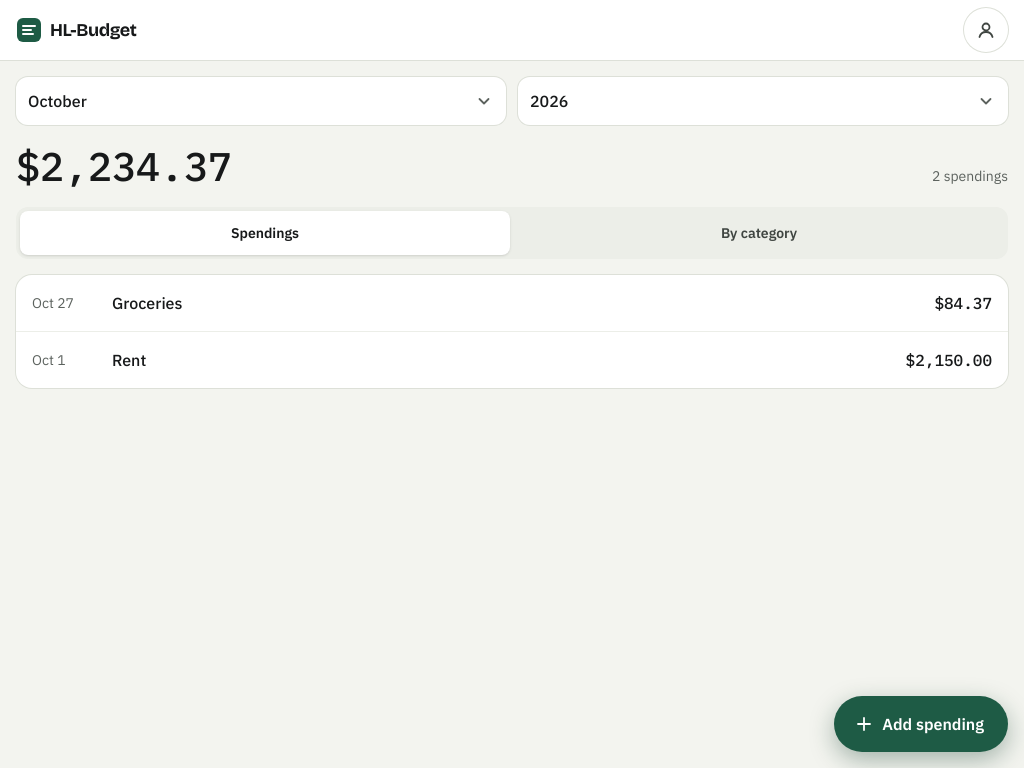
Test: PhoneApp › opens a spending prefilled, and deletes it through the sheet
The image size is (1024, 768).
Step 1. Click the button "Oct 27 Groceries $84.37" → (53, 303), box [16, 275, 1008, 331]
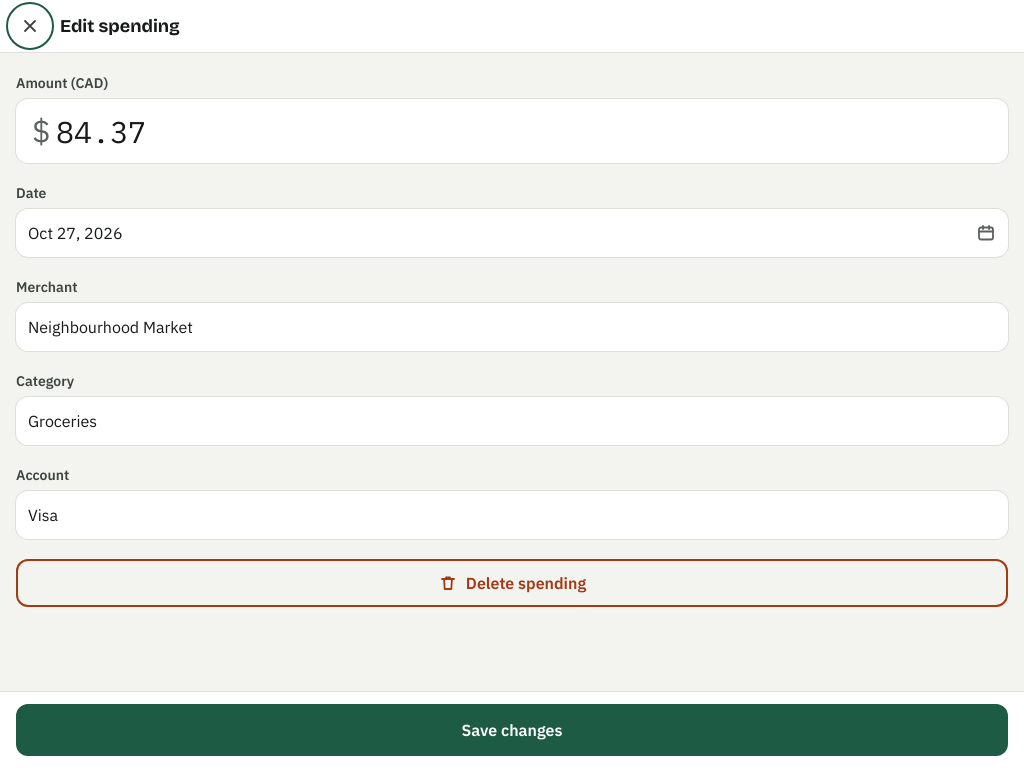
Now the field labelled "Amount (CAD)" holds "84.37", box [16, 99, 1008, 163]
Now the dropdown labelled "Merchant" holds "Neighbourhood Market", box [16, 303, 1008, 351]
Step 2. Click the button "Delete spending" → (512, 583), box [16, 559, 1008, 607]
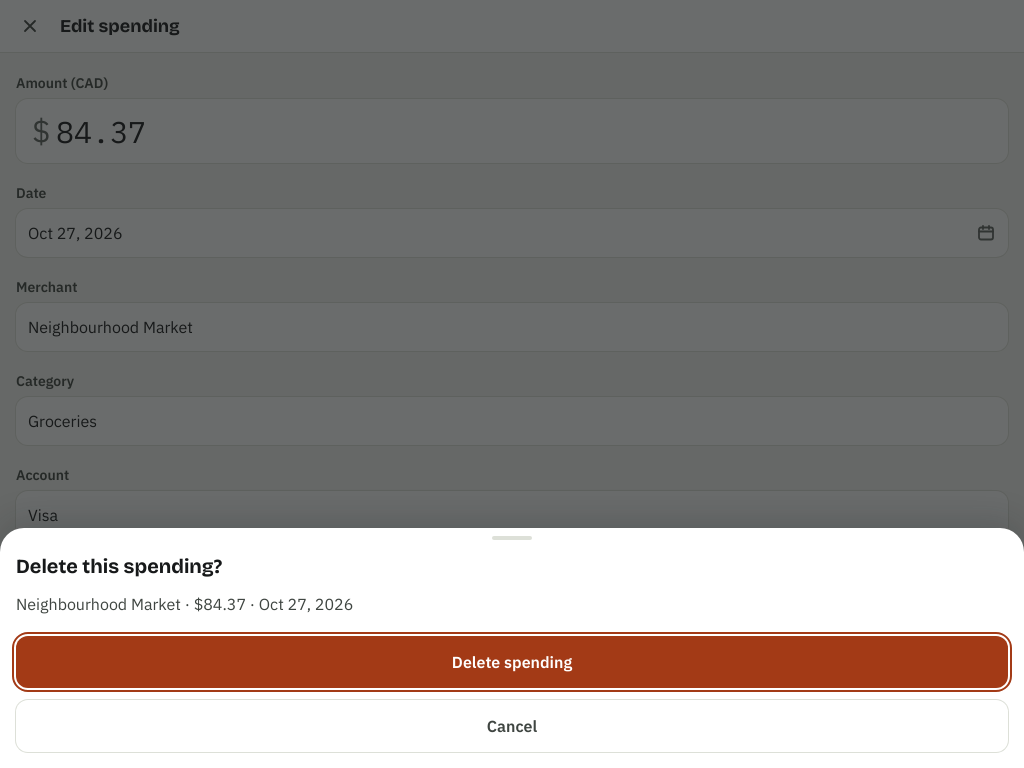
Step 3. Click the button "Delete spending" → (512, 662), box [16, 636, 1008, 688]
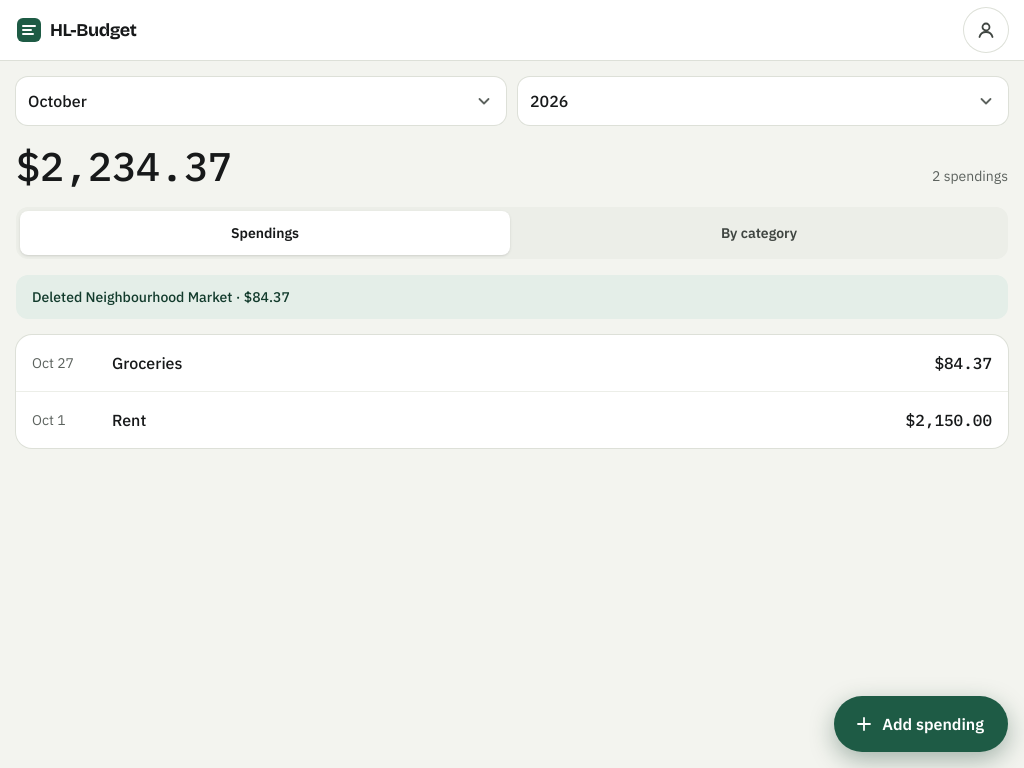
Now the text "Deleted Neighbourhood Market · $84.37" is shown, box [16, 275, 1008, 319]
Now the dialog is gone
